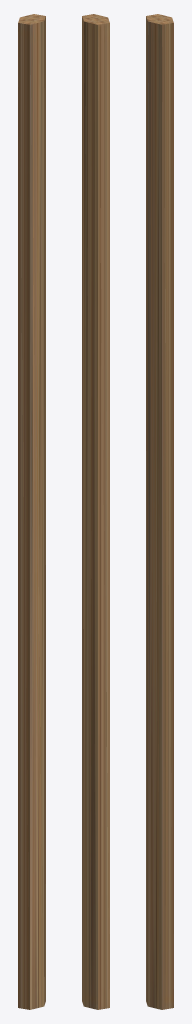
The model's file is wooden-staff.obj.
The picture shows the model from 3 angles, left to right: view 1: azimuth 30°, elevation 25°; view 2: azimuth 150°, elevation 25°; view 3: azimuth 330°, elevation 25°; orthographic projection.
Visible parts, largest first — view 1: Mesh_Mesh_KingdomStaff.000; view 2: Mesh_Mesh_KingdomStaff.000; view 3: Mesh_Mesh_KingdomStaff.000.
Part boxes in pixels (x1,y1,x2,y2): Mesh_Mesh_KingdomStaff.000: [18, 14, 45, 1009]; Mesh_Mesh_KingdomStaff.000: [82, 14, 109, 1009]; Mesh_Mesh_KingdomStaff.000: [146, 14, 173, 1009].
Size of the model in its own units: 0.0768 by 2.57 by 0.0485.
2 materials, 2 textured.
